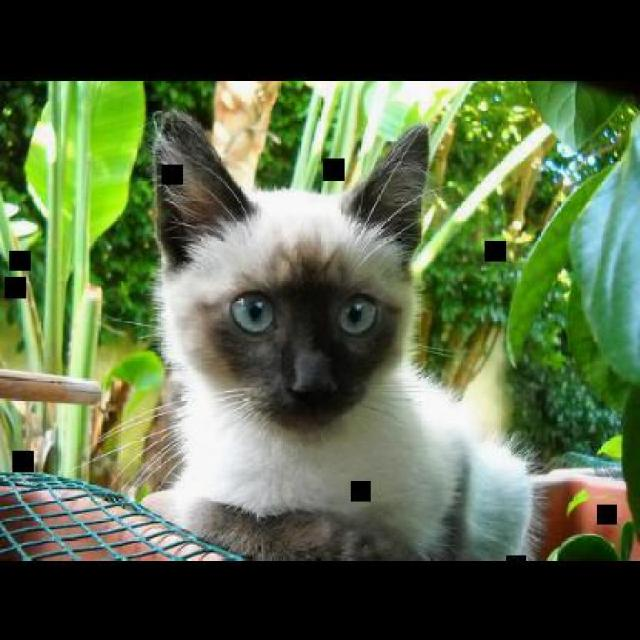unauthorized: (100, 106, 549, 560)
